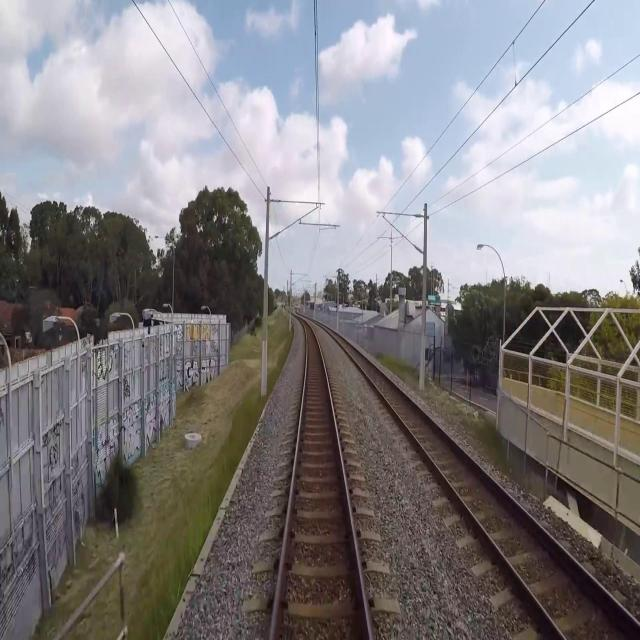rail-track: (333, 333, 640, 639), (273, 323, 368, 639)
